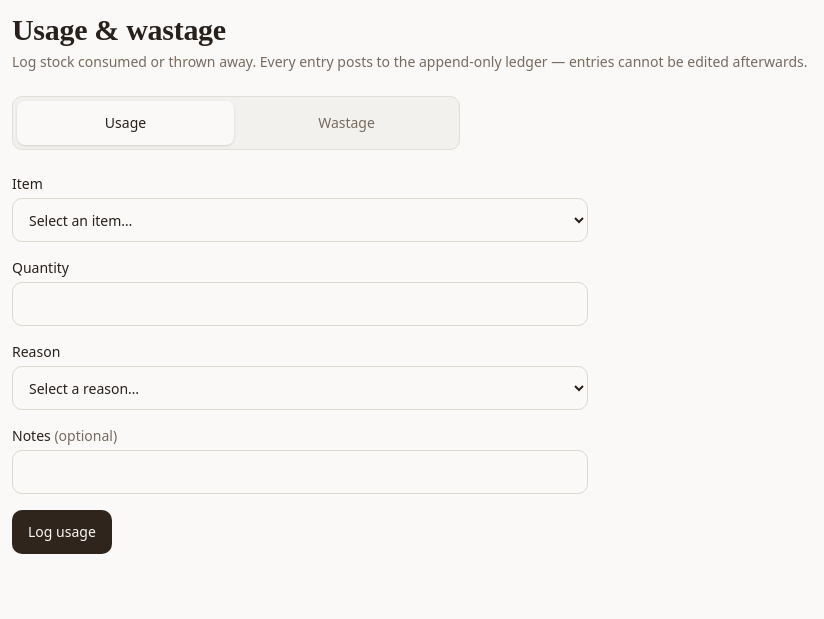
Test case: WastagePage › shows current stock and warns when logging past zero
Select "Rice (kg)" in the dropdown labelled "Item" at [300, 220], box top-left (12, 198), bottom-right (588, 242)
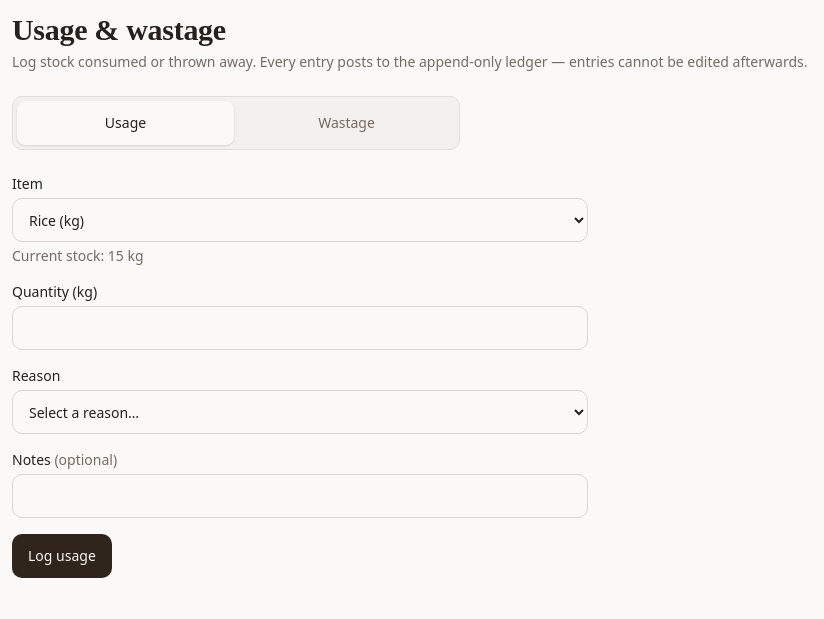
Check: the text "Current stock: 15 kg" is shown, box top-left (12, 246), bottom-right (144, 265)
Within stock: no warning.
Type "5" into the number field labelled "Quantity (kg)" at [300, 328], box top-left (12, 306), bottom-right (588, 350)
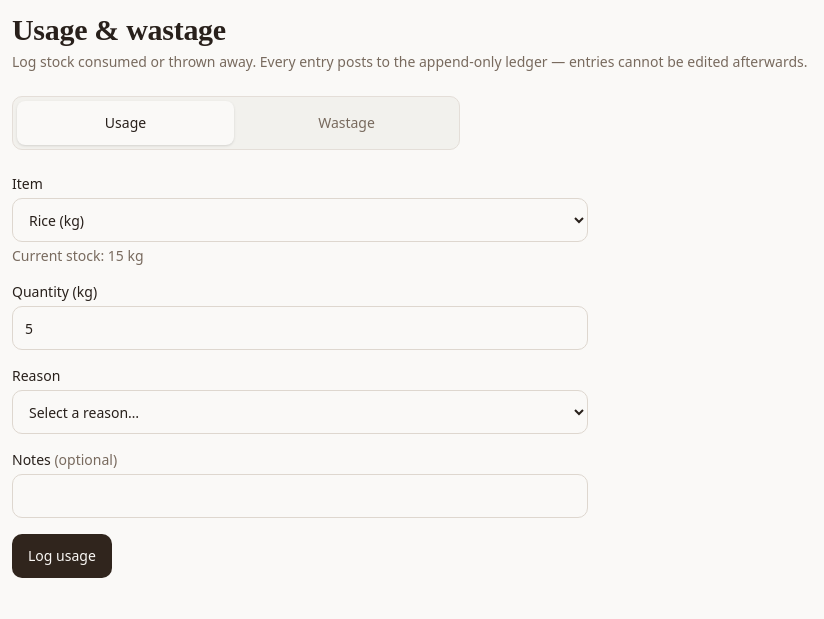
Check: the text "take stock negative" is not shown
Beyond stock: loud warning, submit still allowed (warn + allow).
Replace the text in the number field labelled "Quantity (kg)" with "20" at [300, 328], box top-left (12, 306), bottom-right (588, 350)
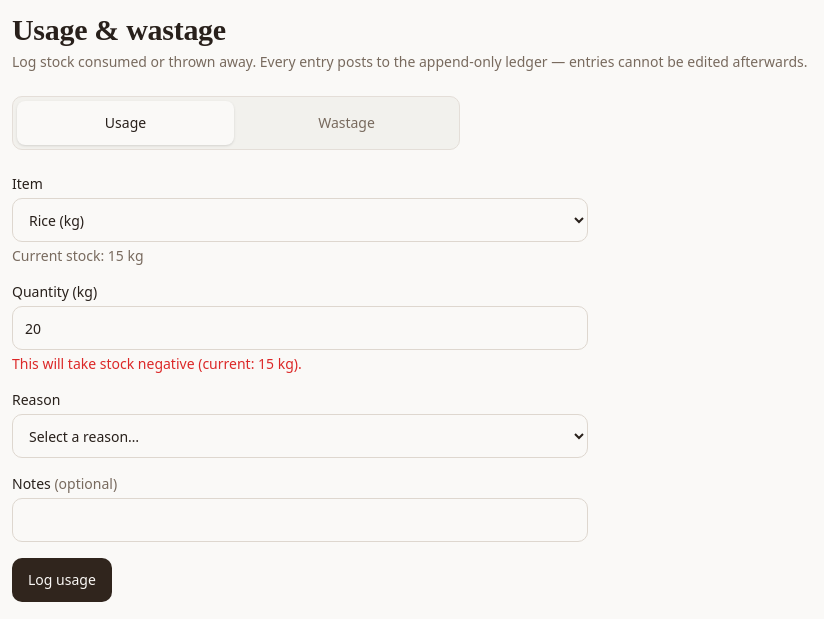
Check: the text "This will take stock negative (current: 15 kg)." is shown, box top-left (12, 354), bottom-right (302, 373)
